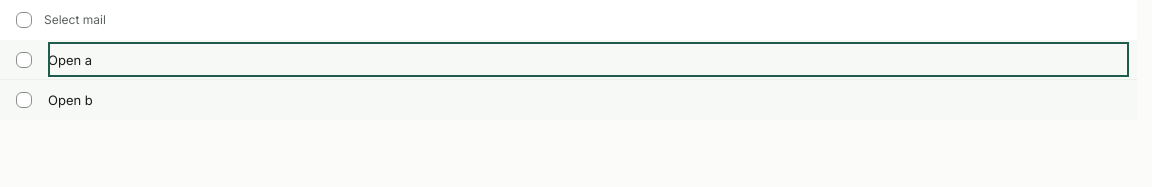
mail scanning and keyboard navigation › moves focus with j and k without opening a message, and selects only loaded rows
This screenshot has width=1152, height=187.
Type keys "j"
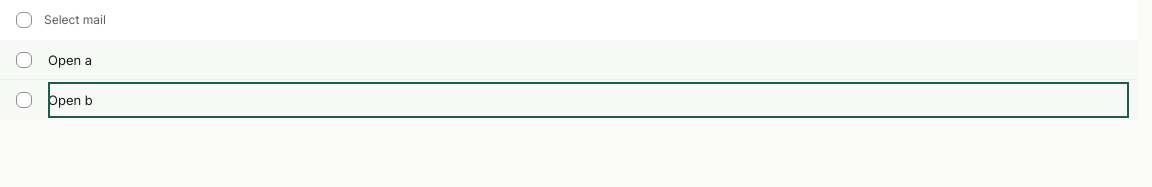
Type keys "k"
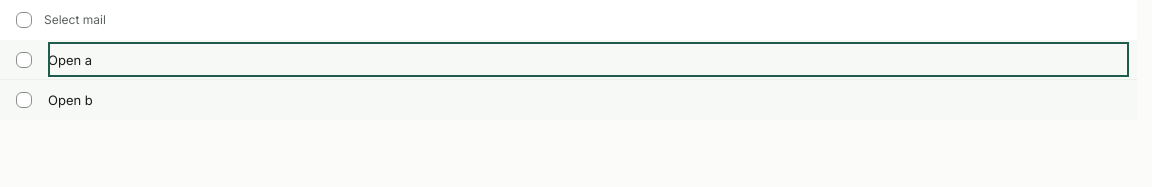
Click the checkbox named "Select all rows on this page". click: (24, 20)
box: [16,12,32,28]
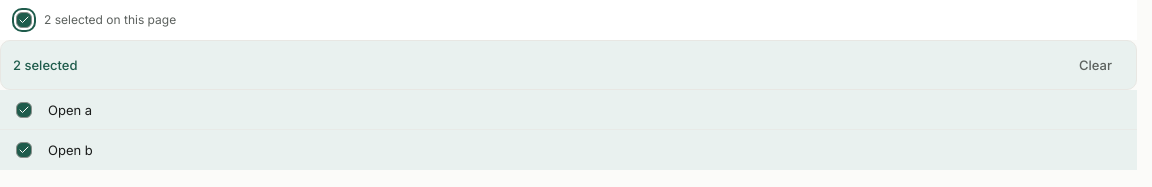
Expected: the text "2 selected on this page" is shown, [44,12,176,28]
Click the button "Clear". click: (1096, 65)
box: [1067,49,1124,81]
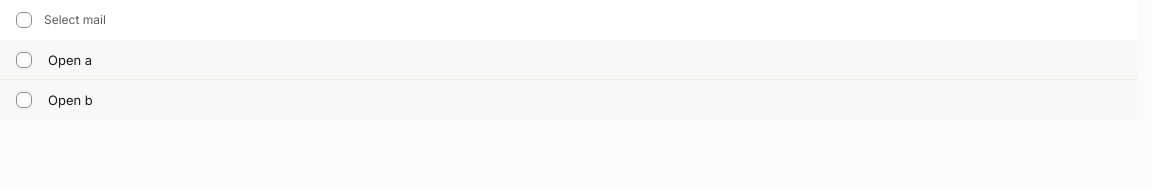
Expected: the text "Select mail" is shown, [44,12,106,28]
